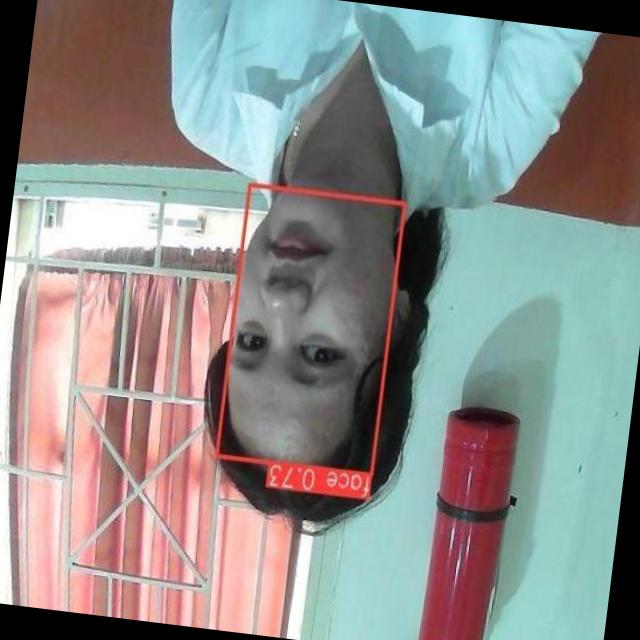bareface: (218, 182, 412, 484)
